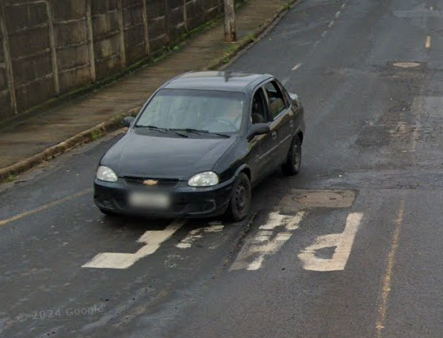car: (89, 58, 307, 234)
